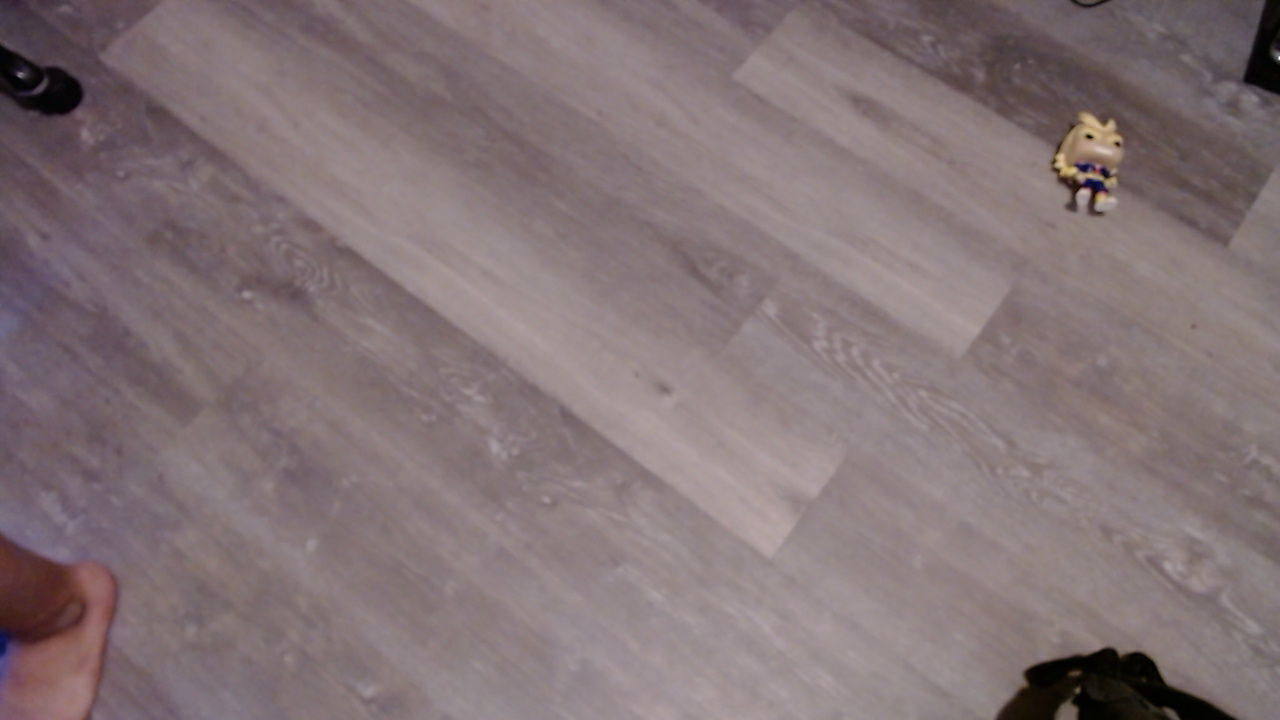all_might: (1060, 110, 1140, 227)
